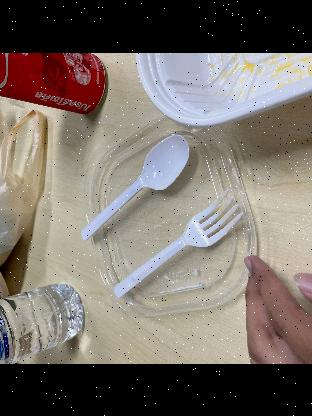Others: (109, 180, 244, 304), (77, 127, 195, 249)
